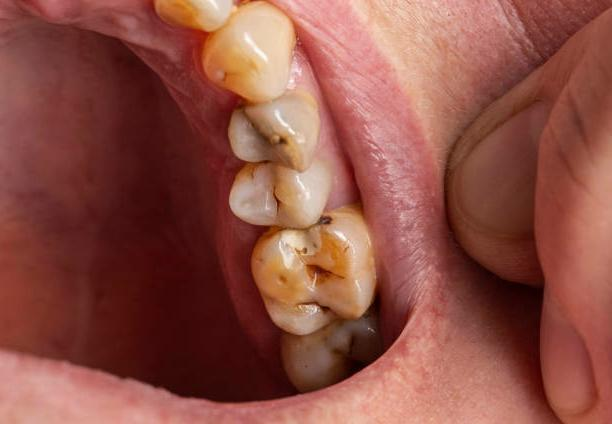Calculus: (255, 232, 353, 327)
Caries: (226, 106, 303, 161)
